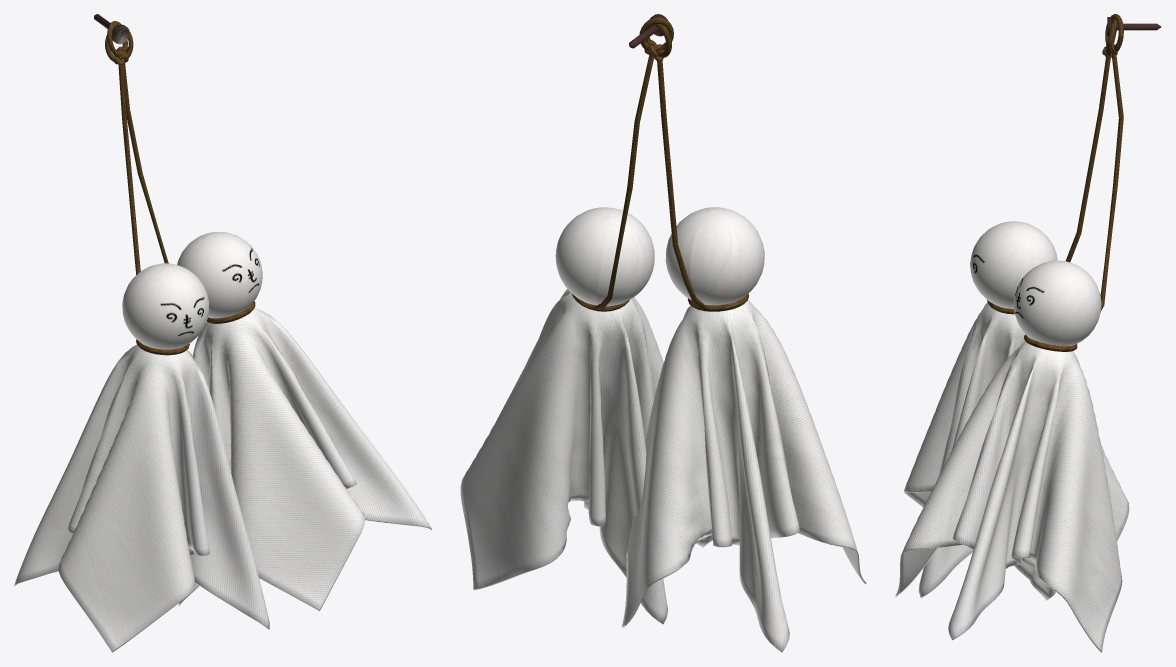
The model's file is TeruTeruBozu2.c.fbx.
3 views of the same model, side by side, from view 1: azimuth 30°, elevation 25°; view 2: azimuth 150°, elevation 25°; view 3: azimuth 270°, elevation 25° (orthographic). The views are drawn at different scales.
Visible parts, largest first — view 1: Group 0; view 2: Group 0; view 3: Group 0.
Part boxes in pixels (x1,y1,x2,y2): Group 0: (14, 14, 431, 652); Group 0: (460, 14, 866, 652); Group 0: (895, 14, 1161, 652).
Size of the model in its own units: 31.4 by 48.64 by 20.6.
1 material, 1 textured.
